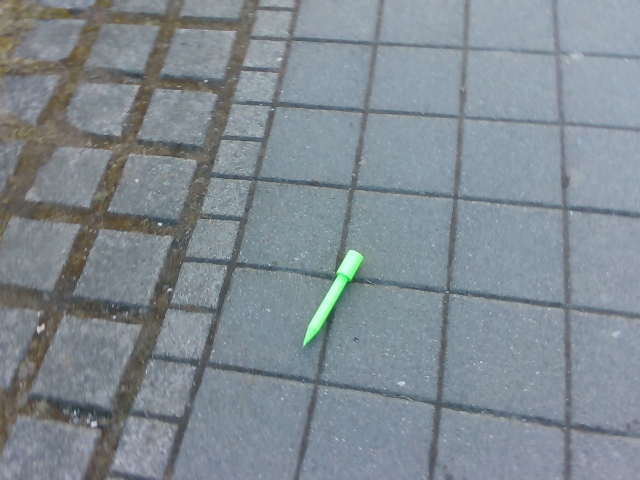Probe: (299, 246, 368, 354)
